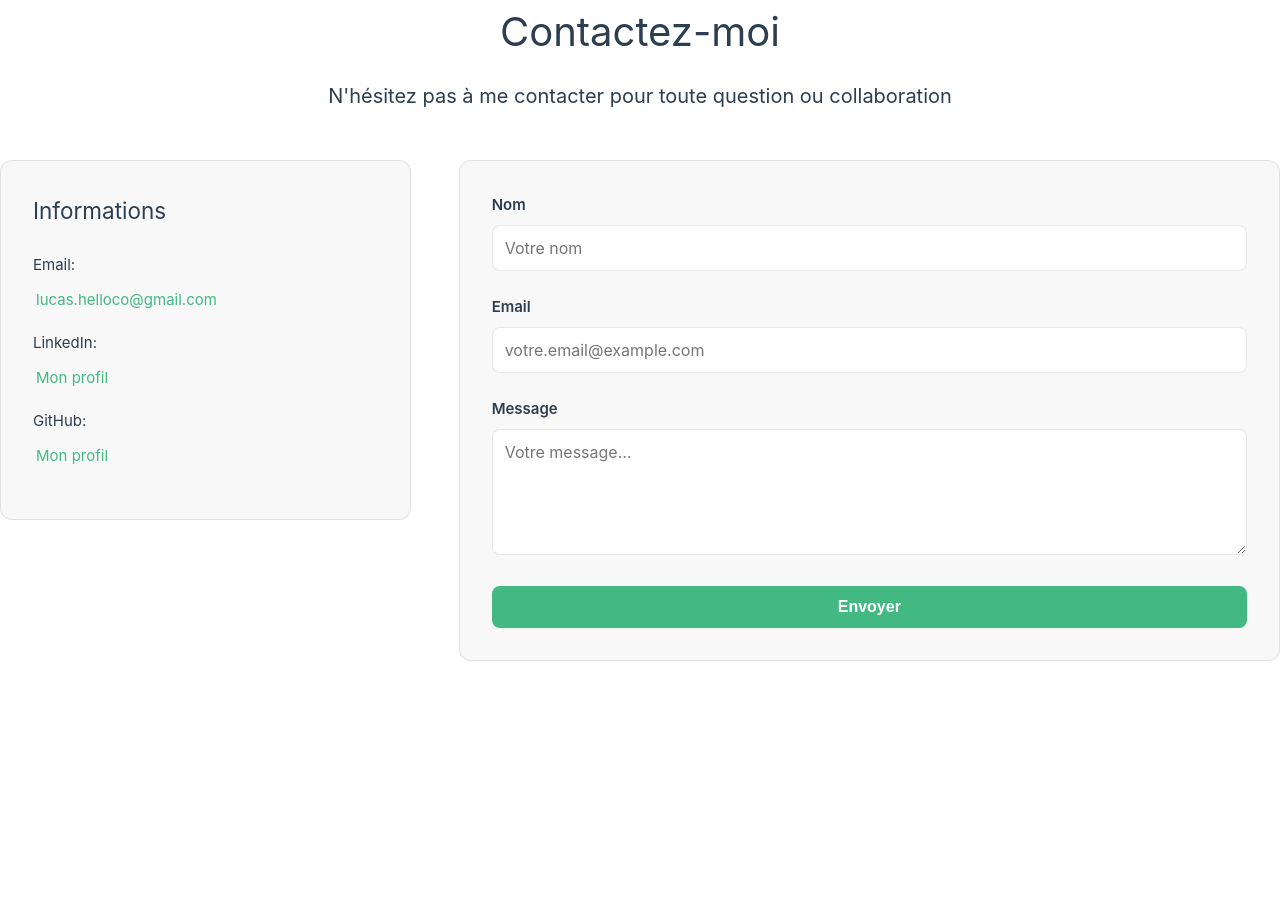
Test case: ContactView › shows success message after successful submission
In the field with id "name": (869, 248) [492,225,1247,271], type "John Doe"
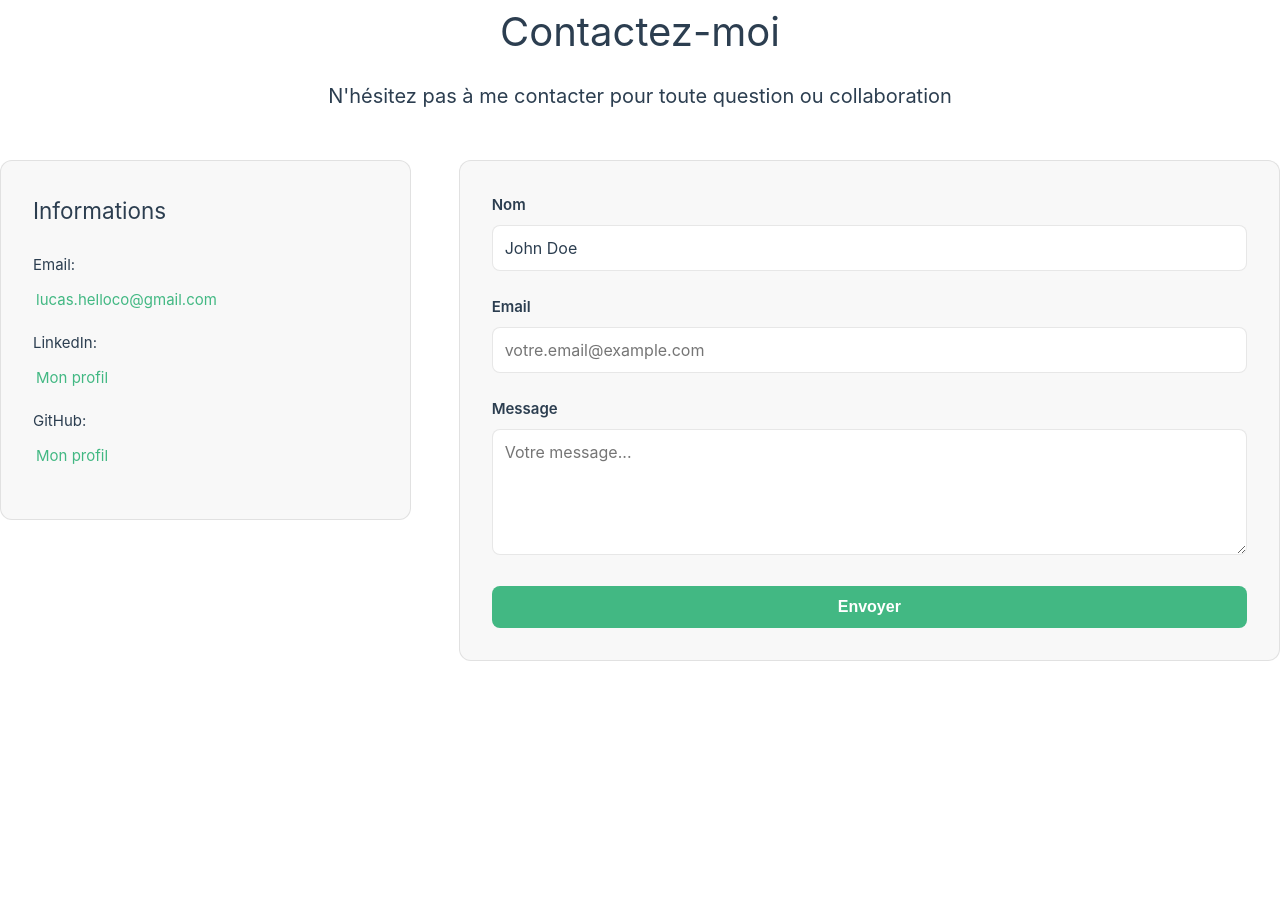
In the field with id "email": (869, 350) [492,327,1247,373], type "john@example.com"
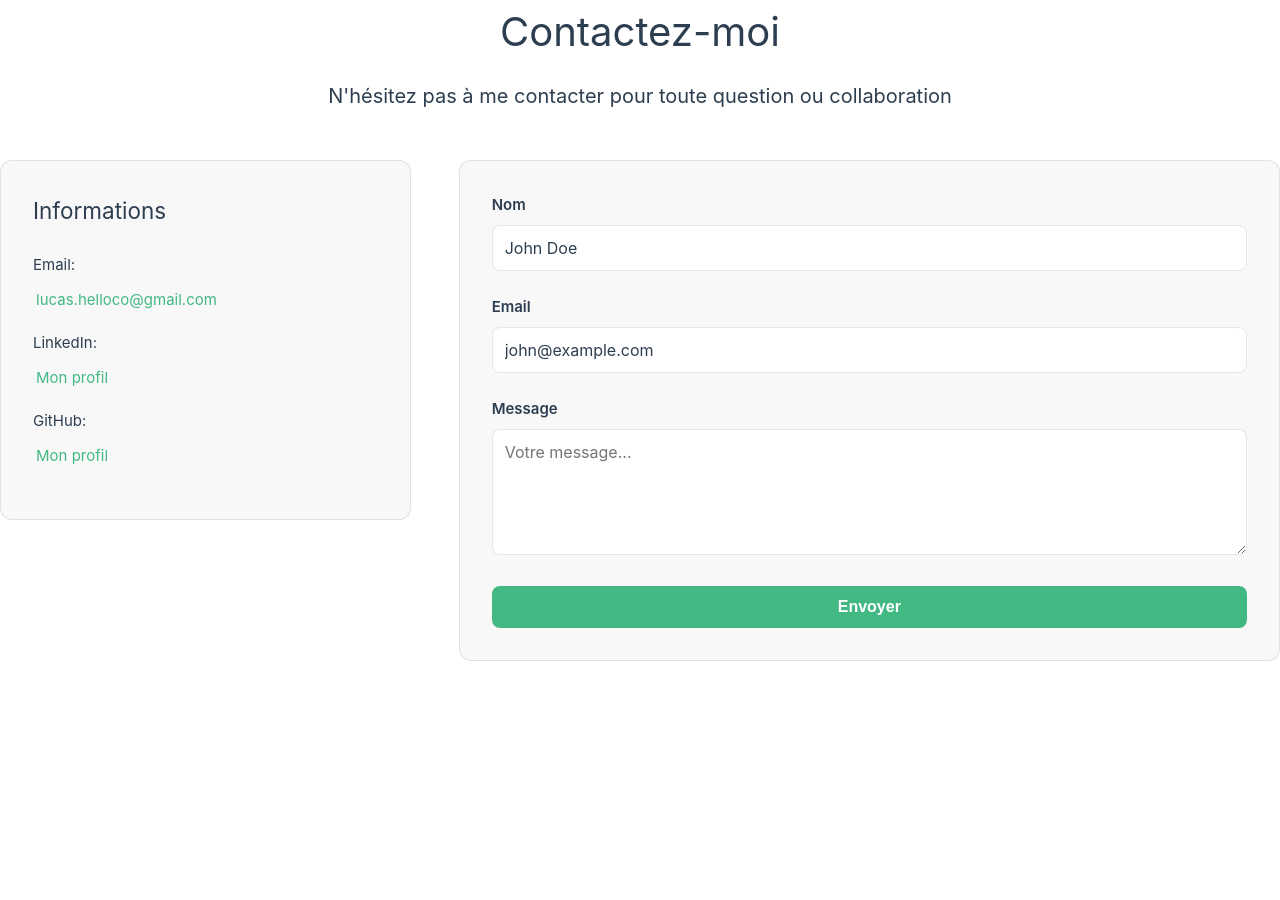
In the text box with id "message": (869, 492) [492,429,1247,555], type "Hello, this is a test message"
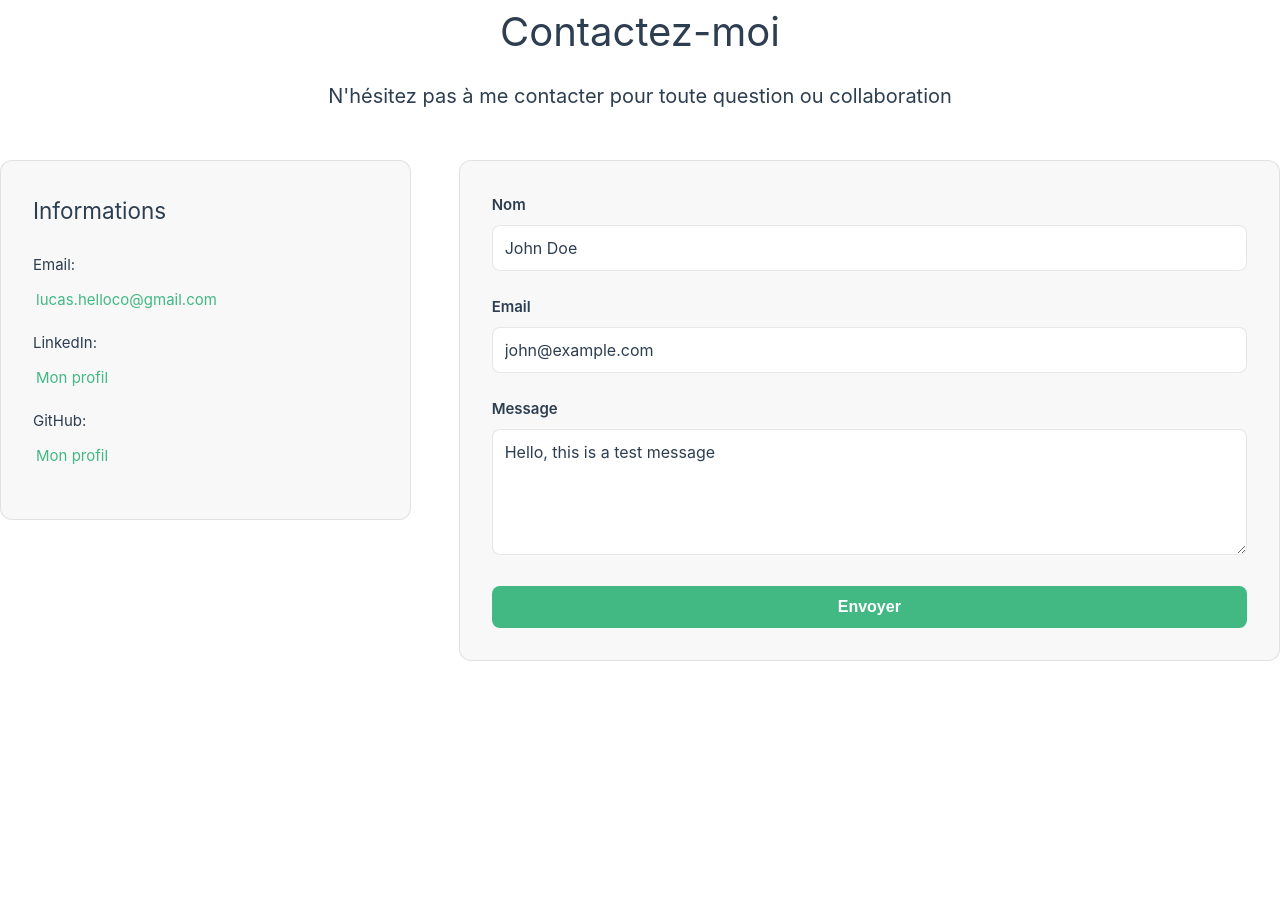
Submit the form, box [459,160,1279,661]
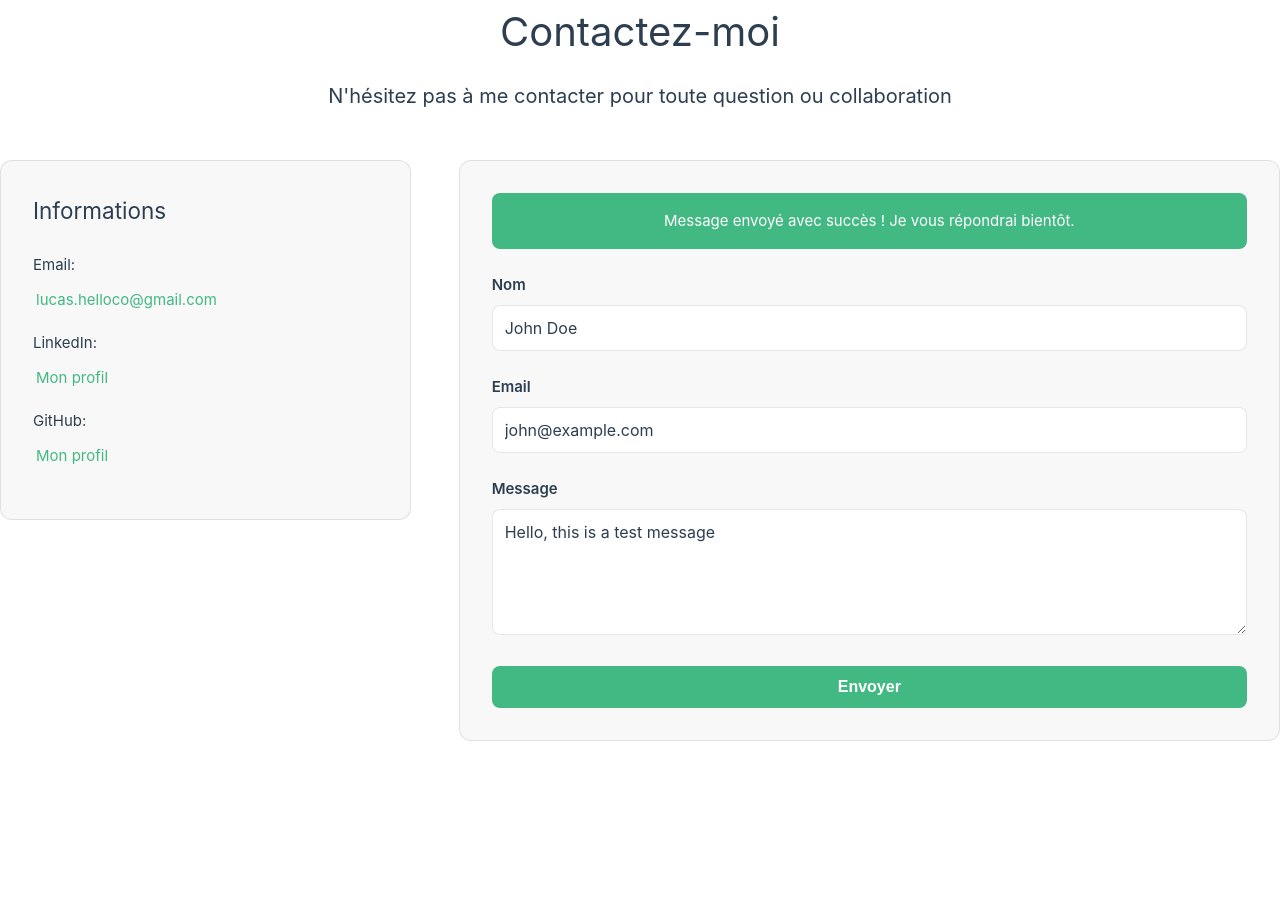
Expected: the text "Message envoyé avec succès ! Je vous répondrai bientôt." is shown, [492,193,1247,249]
Expected: the text "Message envoyé avec succès" is shown, [664,211,1075,230]
